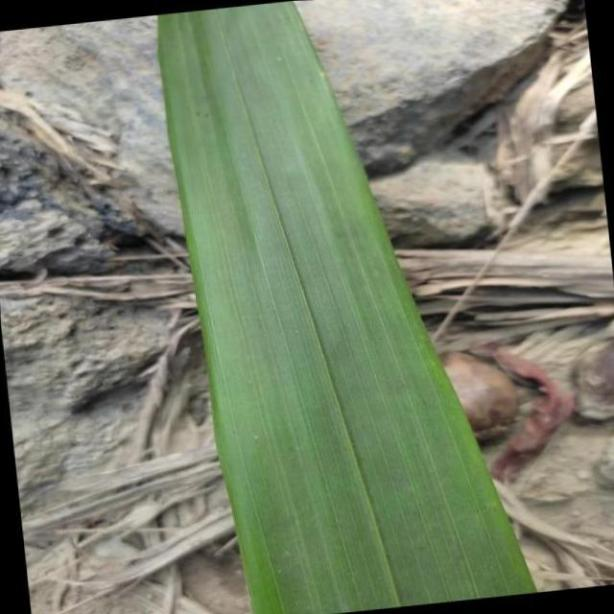Healthy: (149, 3, 540, 611)
